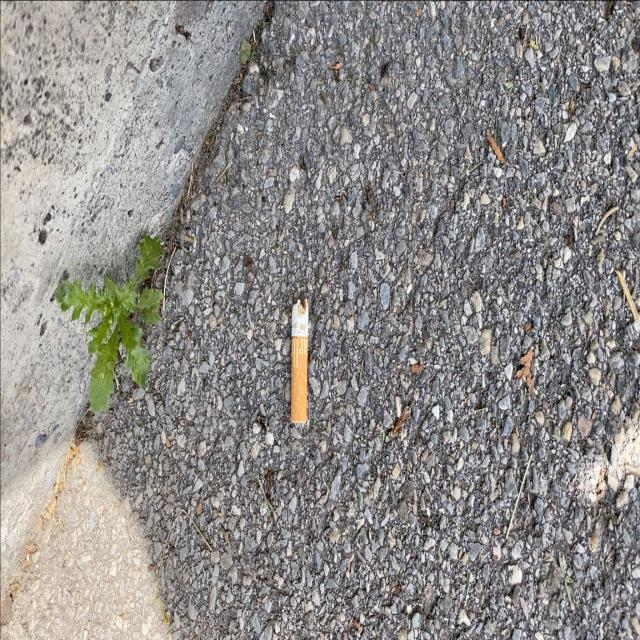other waste: (290, 292, 309, 427)
